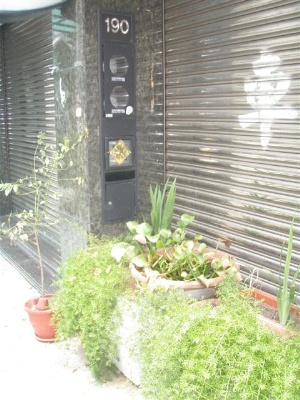plate: (34, 333, 65, 343)
